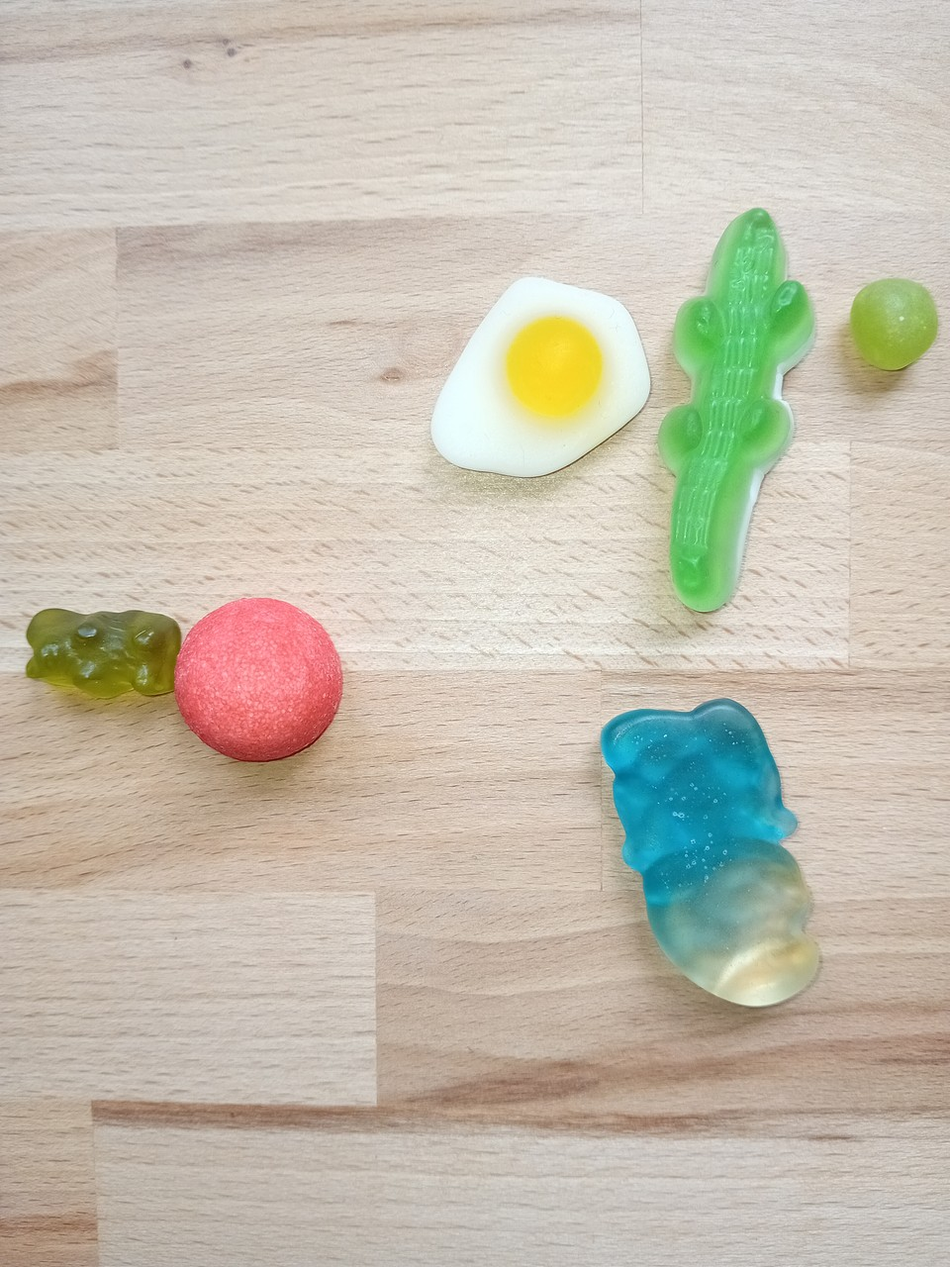crocodile_jaune: (655, 203, 817, 617)
dragibus_vert: (846, 275, 943, 374)
oeuf_oeuf: (421, 272, 651, 490)
ourson_vert: (18, 601, 182, 696)
schtroumpf_bleu-blanc: (592, 691, 831, 1017)
tagada_fraise: (169, 596, 347, 767)
